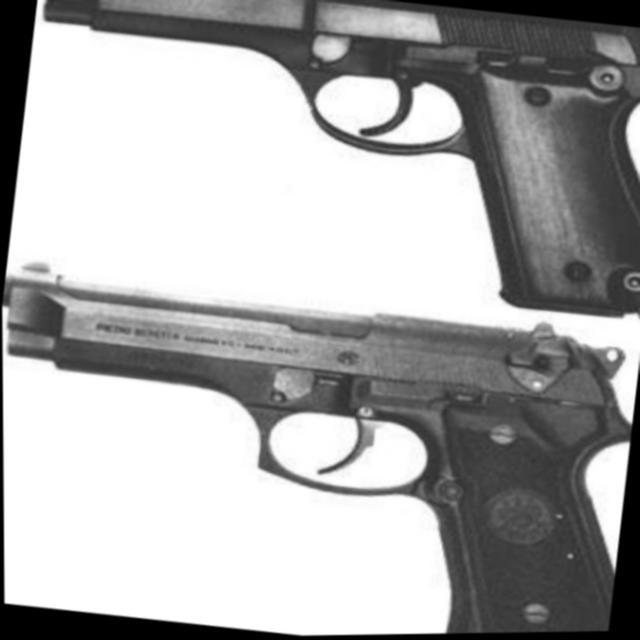weapon: (1, 247, 640, 640), (6, 0, 640, 330)
